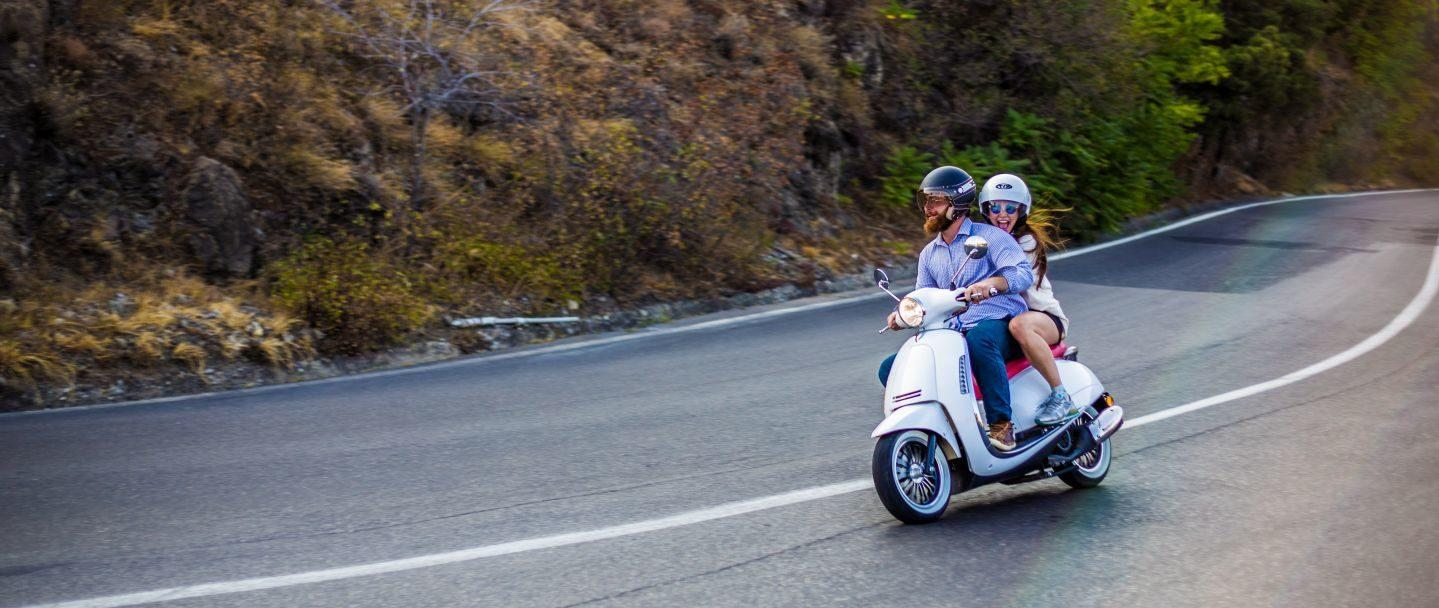motorbike: (870, 237, 1127, 526)
